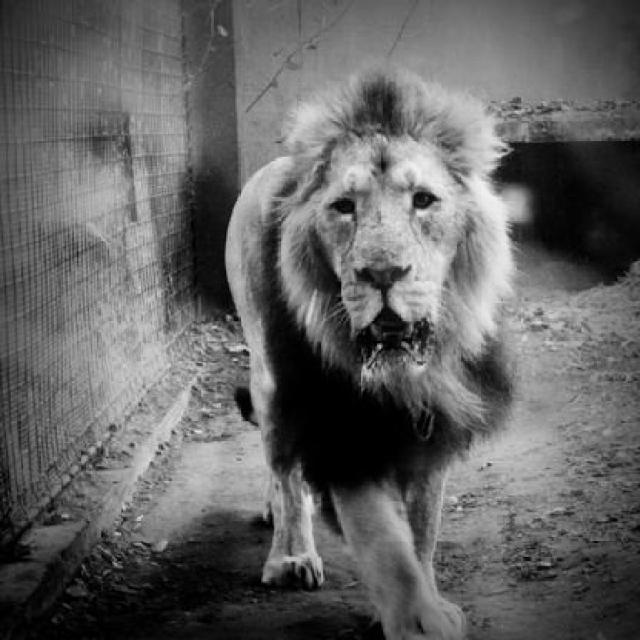Lion: (166, 77, 545, 638)
